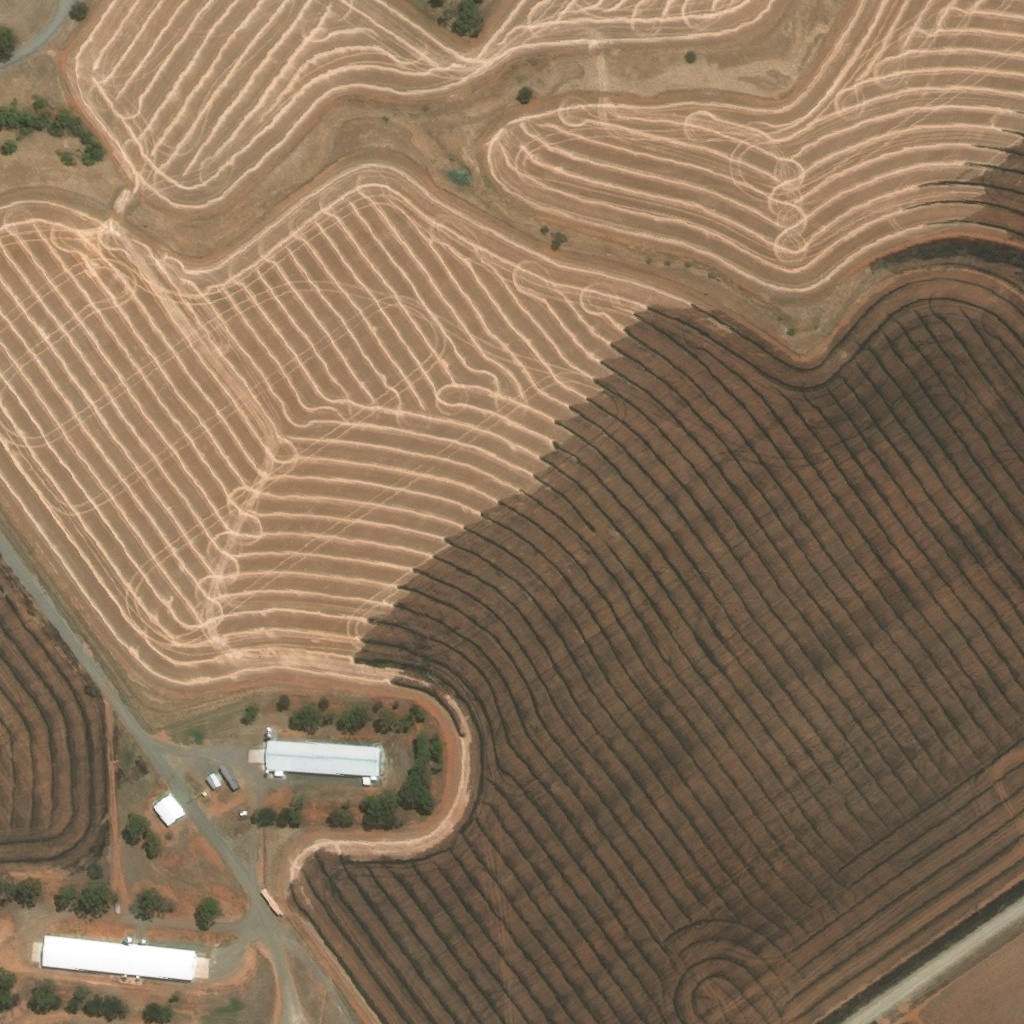0 no-damage: (40, 937, 194, 983), (264, 741, 378, 785), (151, 794, 183, 829), (218, 766, 237, 792), (203, 773, 220, 793), (360, 780, 367, 787)
4 un-classified: (281, 923, 303, 949)
